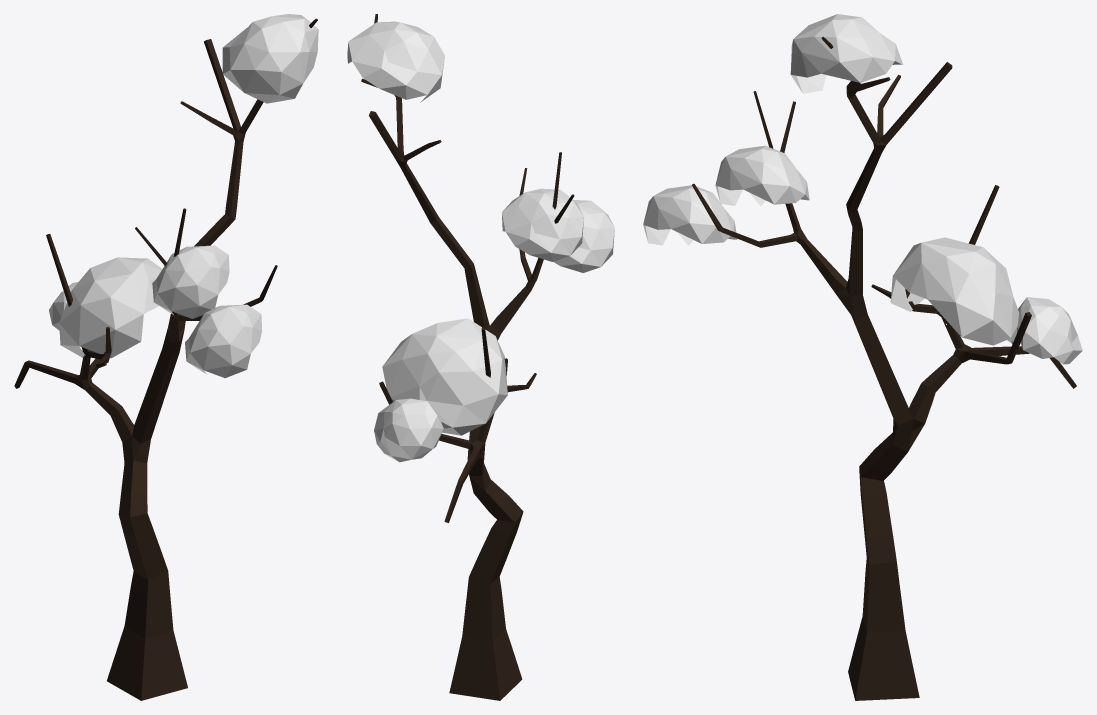
File: Brown_Tree_Snow.fbx
The picture shows the model from 3 angles, left to right: view 1: azimuth 30°, elevation 25°; view 2: azimuth 150°, elevation 25°; view 3: azimuth 270°, elevation 25°; orthographic projection. The views are drawn at different scales.
Parts seen in each view (by area): view 1: Brown Tree Snow; view 2: Brown Tree Snow; view 3: Brown Tree Snow.
Part boxes in pixels (<box>): Brown Tree Snow: <box>14,14,318,700</box>; Brown Tree Snow: <box>347,14,614,700</box>; Brown Tree Snow: <box>643,14,1082,700</box>.
Size of the model in its own units: 142 by 425 by 233.
